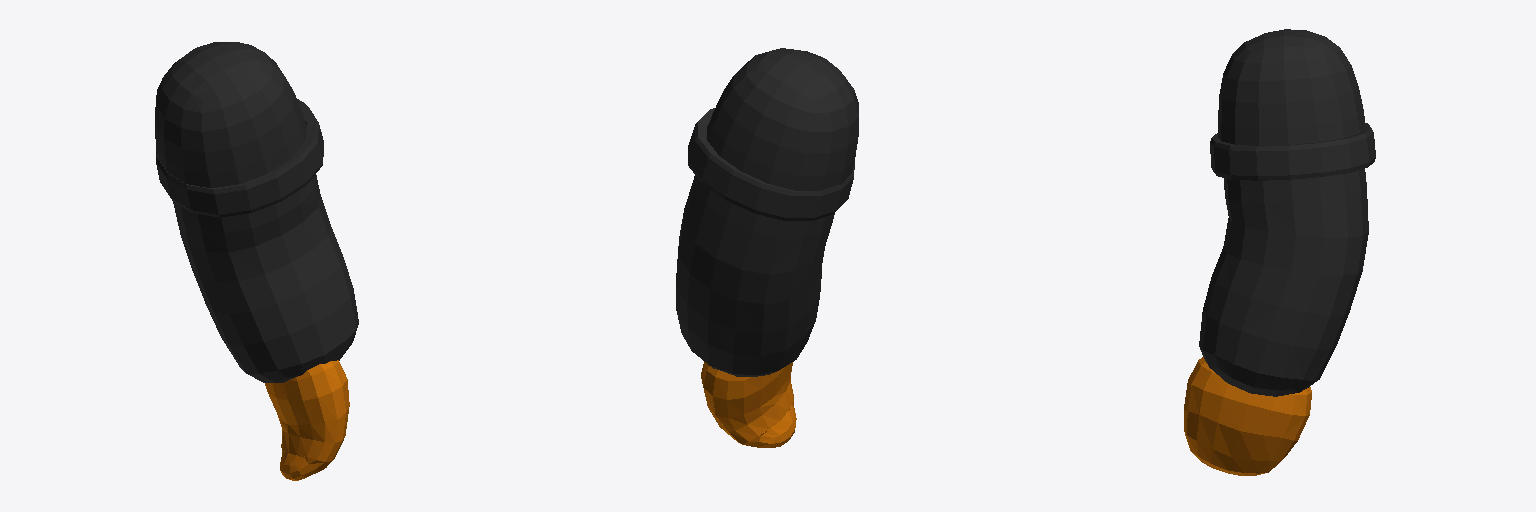
The model's file is leftArm.obj.
The picture shows the model from 3 angles: view 1: azimuth 30°, elevation 25°; view 2: azimuth 150°, elevation 25°; view 3: azimuth 270°, elevation 25°; orthographic projection.
Visible parts, largest first — view 1: KNIGHT_meshes_Right_ARM_Right_ARM1.001, KNIGHT_Cloth_NURBS4_CENTRE_CHEST_LEFT_SHOULDER_LEFT_ARM_HAN.000; view 2: KNIGHT_meshes_Right_ARM_Right_ARM1.001, KNIGHT_Cloth_NURBS4_CENTRE_CHEST_LEFT_SHOULDER_LEFT_ARM_HAN.000; view 3: KNIGHT_meshes_Right_ARM_Right_ARM1.001, KNIGHT_Cloth_NURBS4_CENTRE_CHEST_LEFT_SHOULDER_LEFT_ARM_HAN.000.
Boxes of the visible parts, <box> form: KNIGHT_meshes_Right_ARM_Right_ARM1.001: <box>155,42,358,382</box>; KNIGHT_Cloth_NURBS4_CENTRE_CHEST_LEFT_SHOULDER_LEFT_ARM_HAN.000: <box>265,360,349,480</box>; KNIGHT_meshes_Right_ARM_Right_ARM1.001: <box>676,48,858,376</box>; KNIGHT_Cloth_NURBS4_CENTRE_CHEST_LEFT_SHOULDER_LEFT_ARM_HAN.000: <box>701,362,796,447</box>; KNIGHT_meshes_Right_ARM_Right_ARM1.001: <box>1199,29,1375,396</box>; KNIGHT_Cloth_NURBS4_CENTRE_CHEST_LEFT_SHOULDER_LEFT_ARM_HAN.000: <box>1184,357,1311,475</box>.
Bounding box in the file's own units: 1.4 × 3.25 × 1.36.